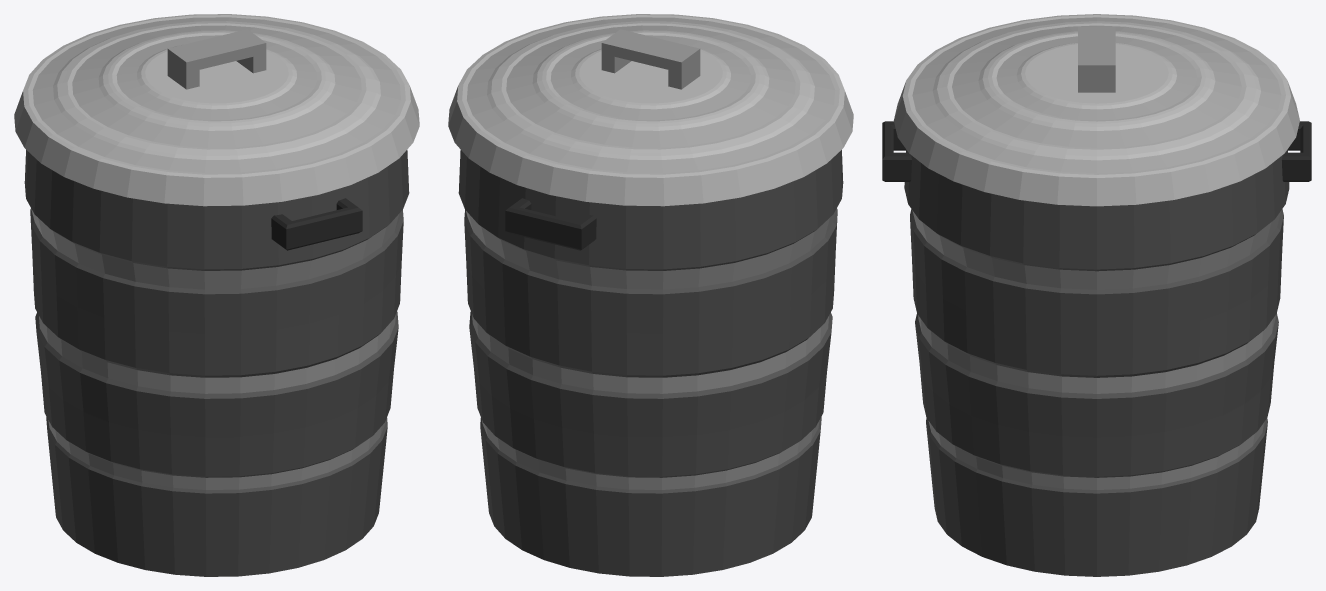
Rendered from Garbage Can Metal.fbx.
3 renders of one model, left to right at view 1: azimuth 30°, elevation 25°; view 2: azimuth 150°, elevation 25°; view 3: azimuth 270°, elevation 25°, orthographic.
Parts seen in each view (by area): view 1: Garbage Can Metal; view 2: Garbage Can Metal; view 3: Garbage Can Metal.
Boxes of the visible parts, x1=… form: Garbage Can Metal: x1=14, y1=14, x2=419, y2=576; Garbage Can Metal: x1=448, y1=14, x2=853, y2=576; Garbage Can Metal: x1=882, y1=14, x2=1311, y2=576.
Size of the model in its own units: 70.06 by 87.98 by 74.08.
1 material, 1 textured.
